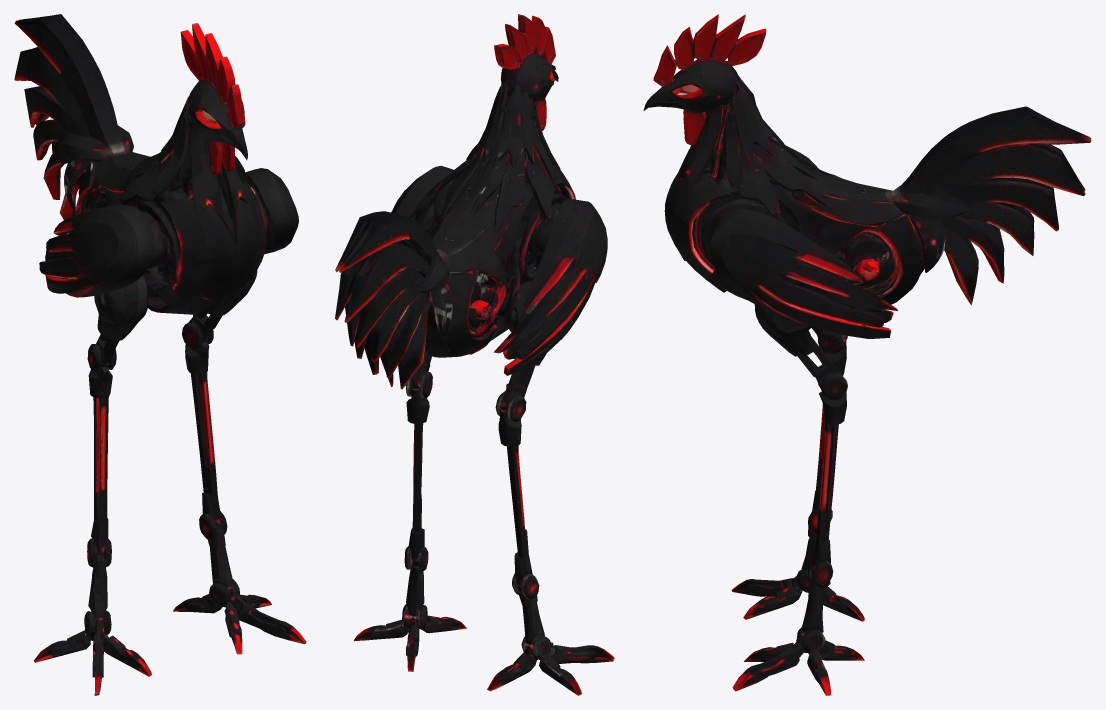
The model's file is chicken.glb.
3 views of the same model, side by side, from view 1: azimuth 30°, elevation 25°; view 2: azimuth 150°, elevation 25°; view 3: azimuth 270°, elevation 25° (orthographic). The views are drawn at different scales.
Bounding box in the file's own units: 0.7335 × 1.9 × 1.23.
1 material, 1 textured.
